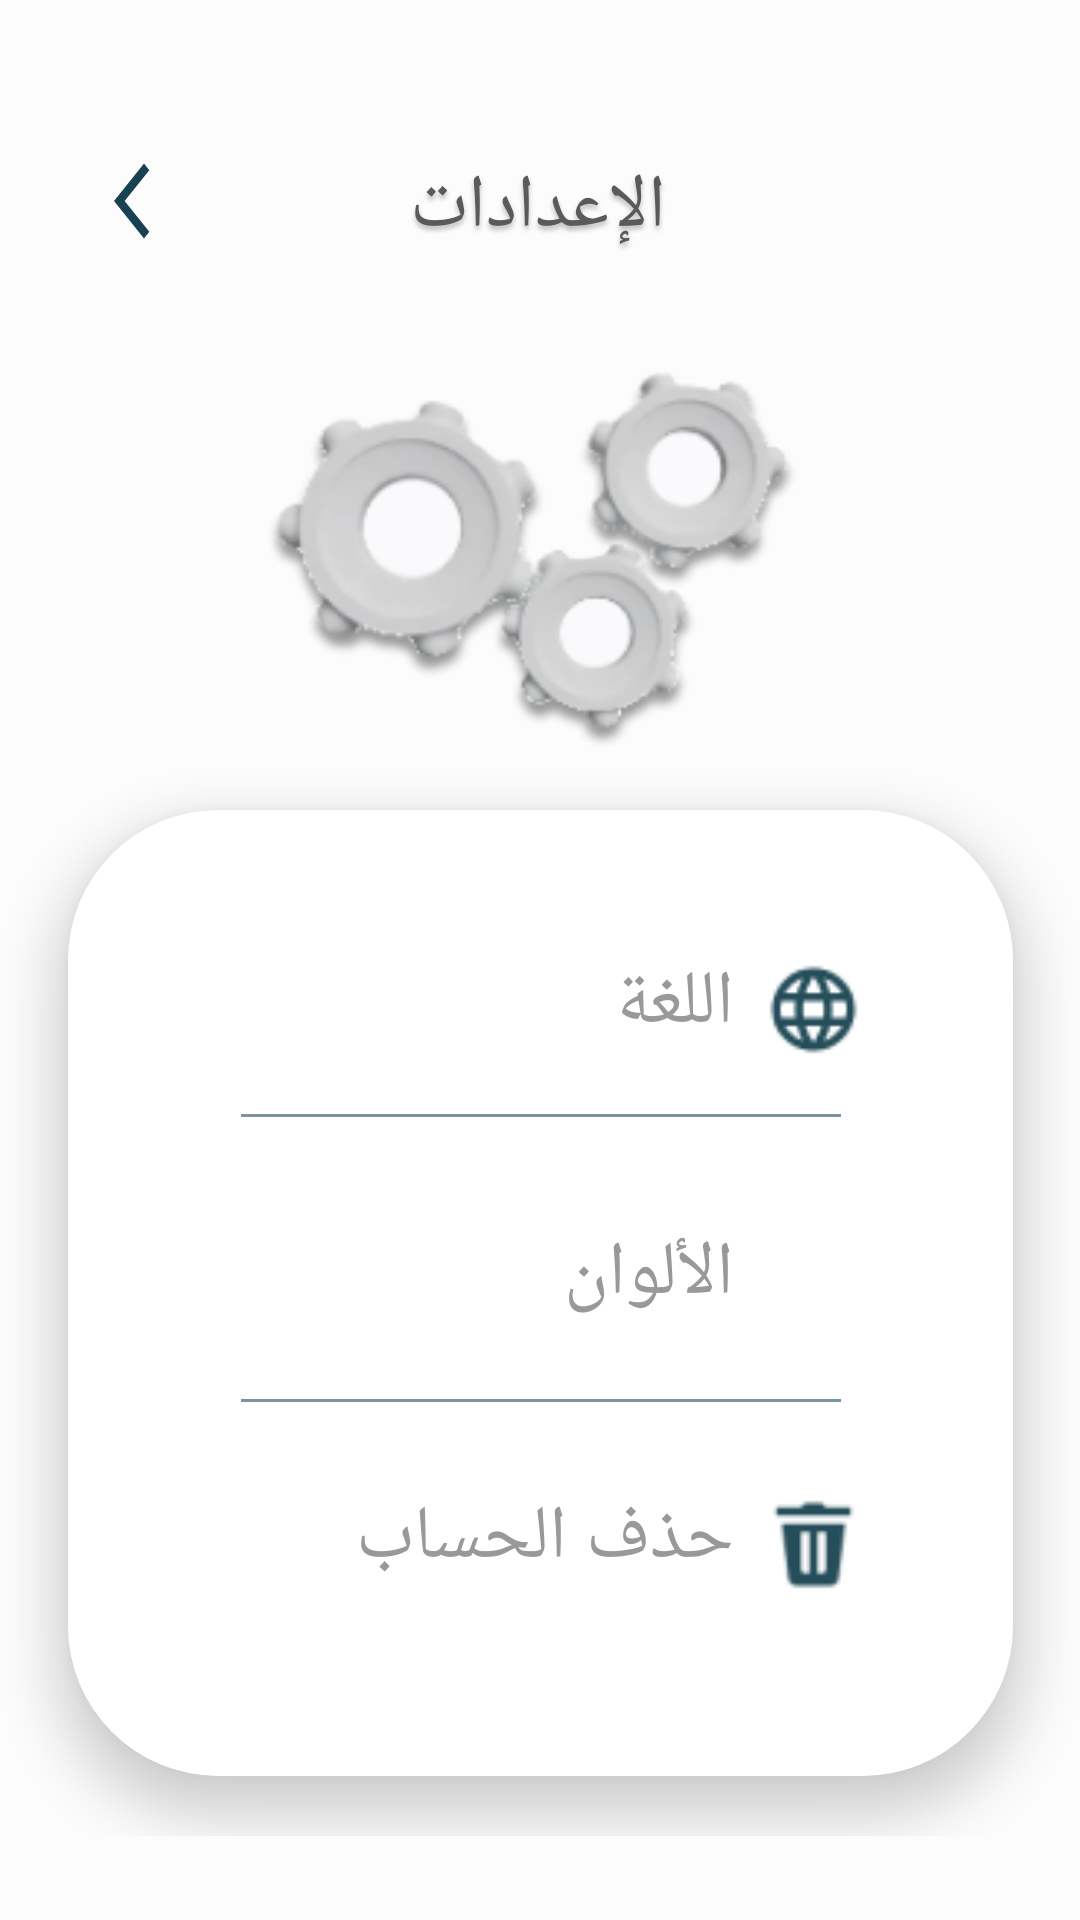

Icon bounding boxes for this 1080w x 1920h phone screenshot, format (x1, y1, x2, y2):
arrow back: (114, 164, 149, 238)
language: (770, 966, 857, 1053)
waste: (774, 1501, 853, 1588)
